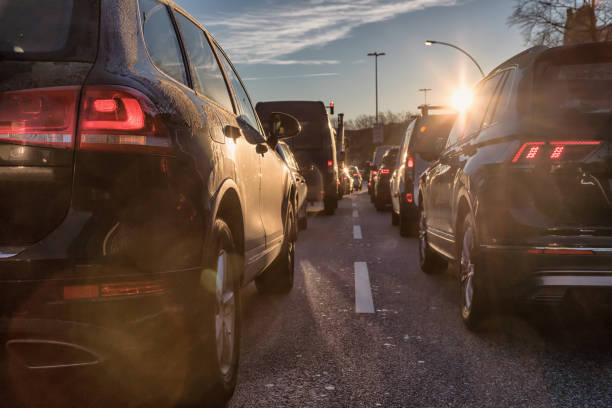car: (1, 1, 293, 403), (421, 49, 612, 314), (261, 102, 342, 207), (393, 113, 461, 236), (374, 147, 410, 209), (343, 162, 362, 193)
